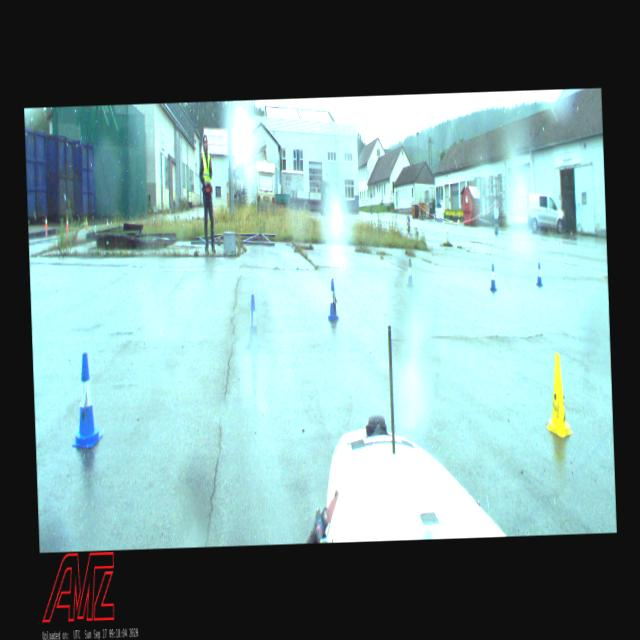blue_cone: (68, 351, 102, 449), (243, 294, 260, 354), (327, 278, 338, 321), (488, 263, 496, 291), (406, 258, 413, 286), (535, 262, 542, 286)
orange_cone: (84, 216, 88, 229), (44, 215, 47, 228), (105, 218, 108, 230), (66, 217, 68, 230)
yellow_cone: (543, 352, 573, 437)
